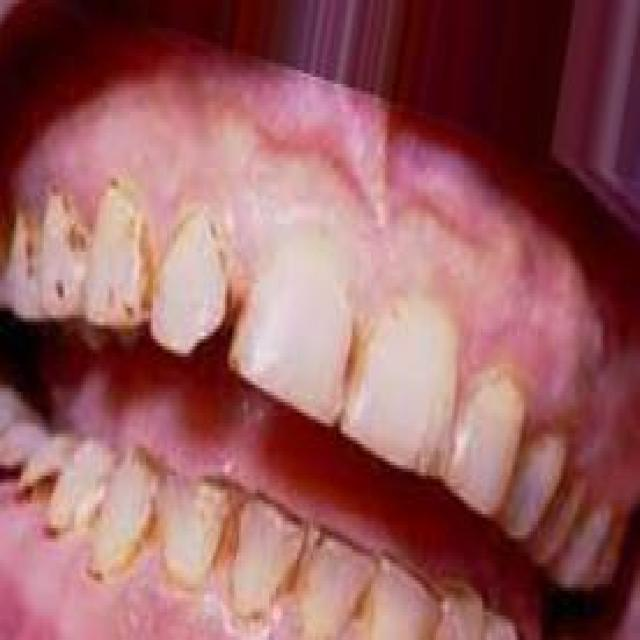caries: (14, 457, 70, 520)
